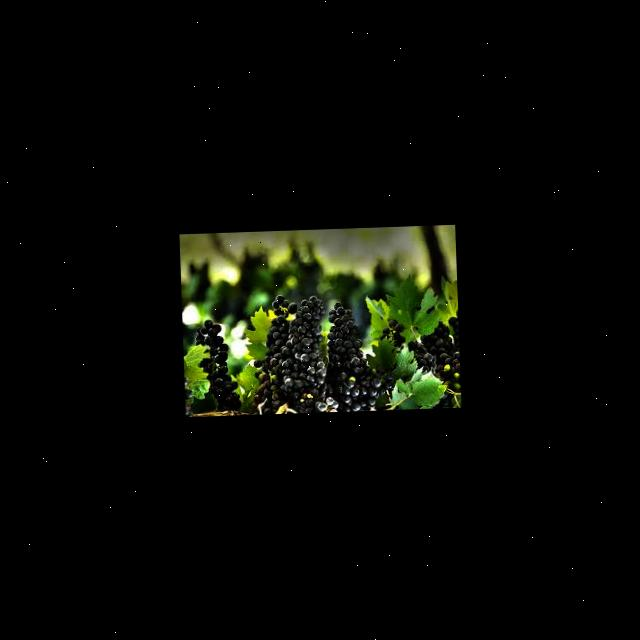grape: (245, 290, 395, 414), (194, 318, 241, 412)
